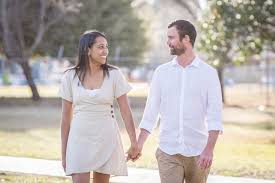white_male: (162, 23, 194, 59)
